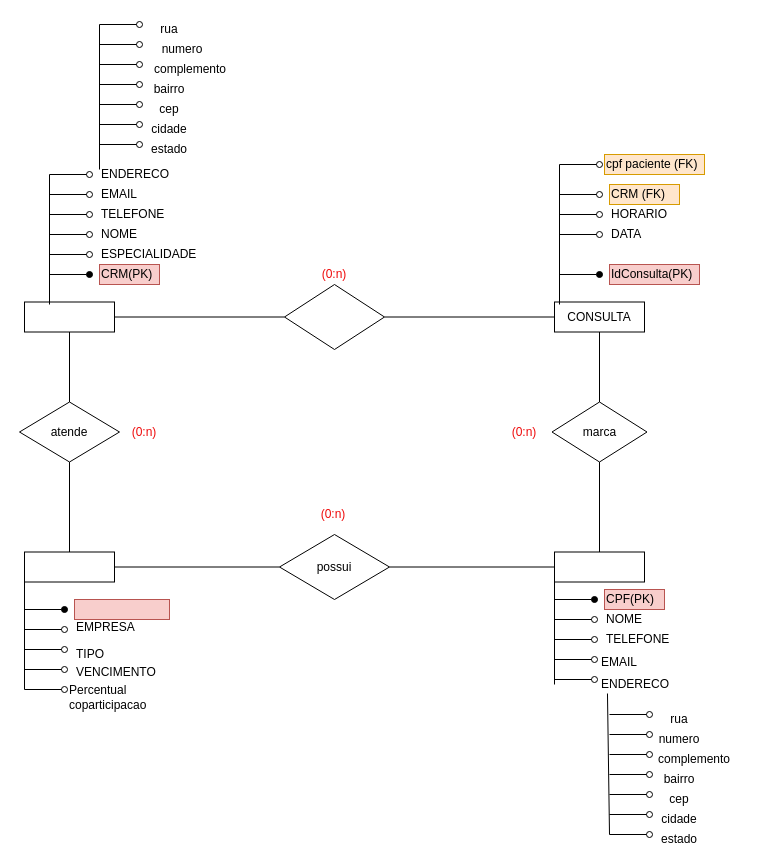
The diagram is 757 pixels wide and 864 high, and some of its shapes have lost their labels. The centre of each missing label's shape, as x and y in pixels:
CONVENIO: (x=69, y=566)
IdConvenio(PK): (x=122, y=609)
MEDICO: (x=69, y=316)
PACIENTE: (x=599, y=566)
realiza: (x=334, y=317)
